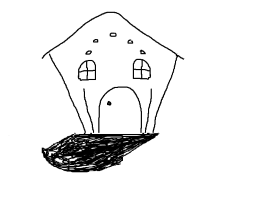closed_window: (71, 57, 100, 83), (128, 56, 155, 82)
door: (92, 84, 147, 136)
shadow: (42, 132, 161, 175)
single_line_roof: (33, 10, 188, 62)
wall: (44, 50, 180, 138)
